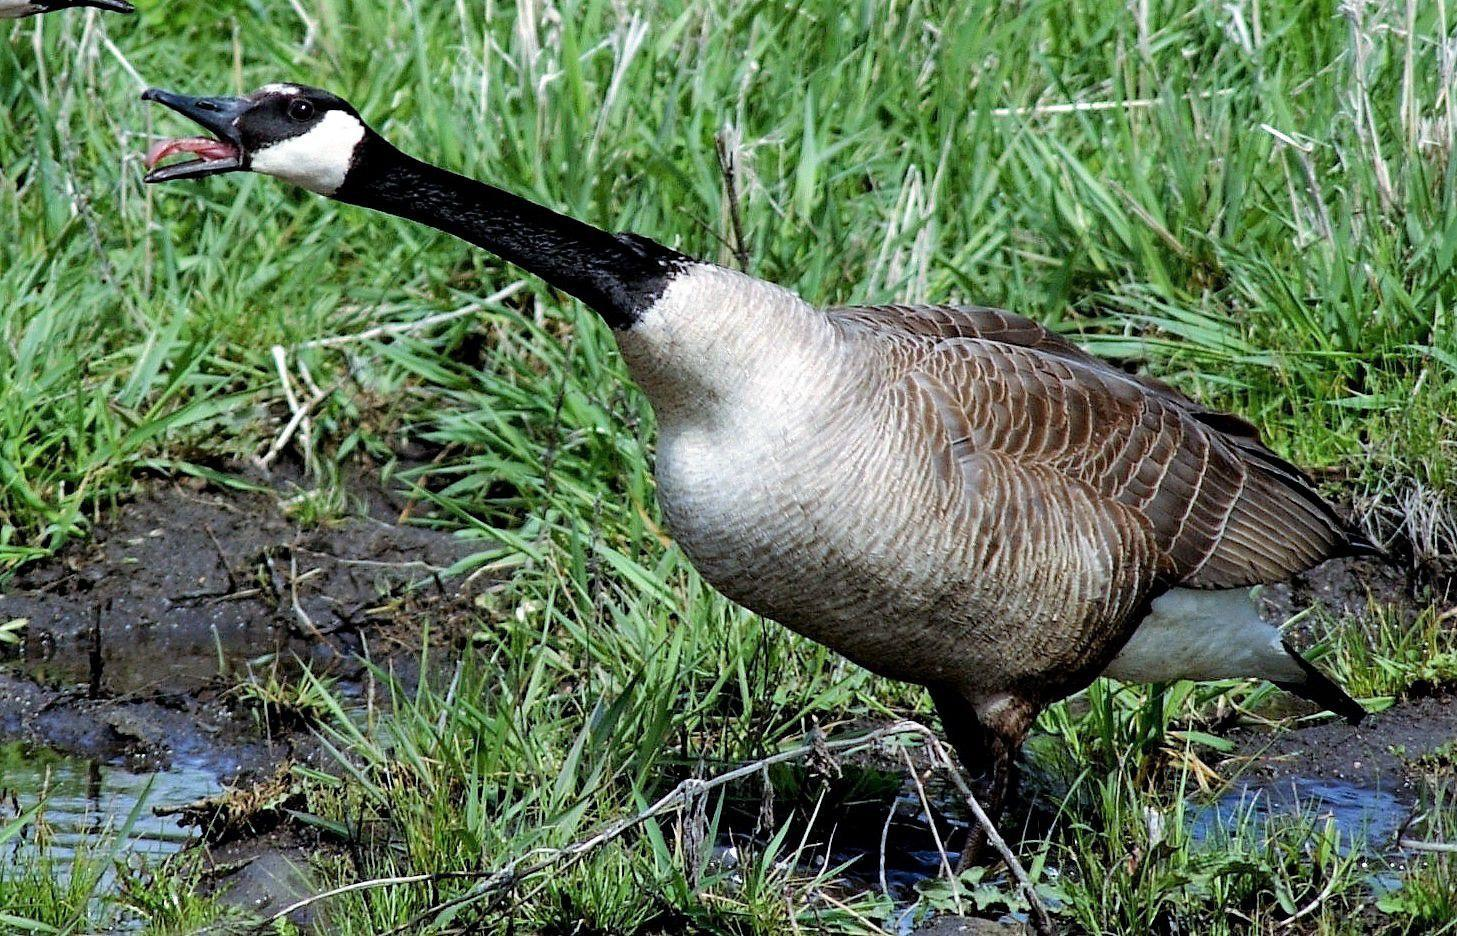Canadian-Goose: (131, 65, 1381, 834)
